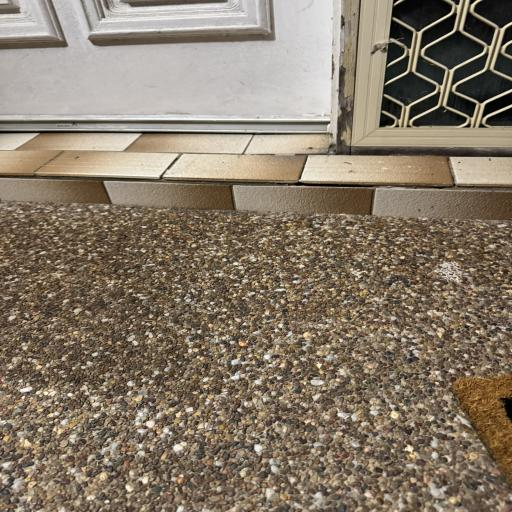step: (0, 133, 512, 220)
